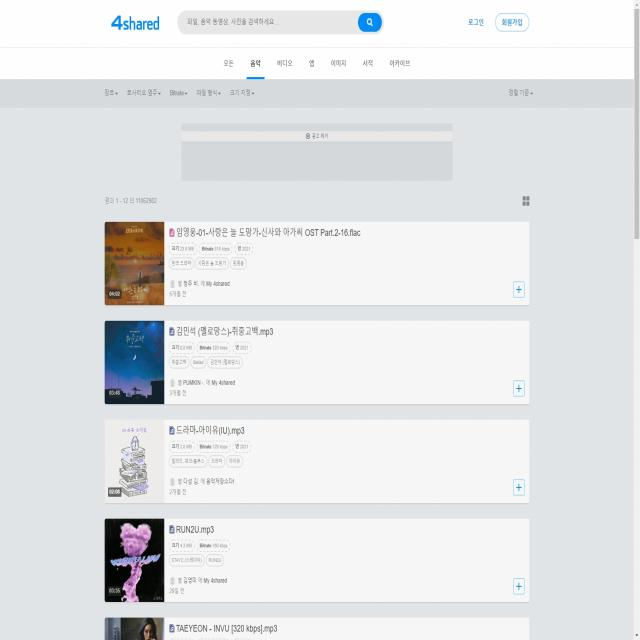menu-bar: (465, 8, 531, 34)
menu-panel: (214, 47, 418, 81)
search: (174, 4, 386, 39)
